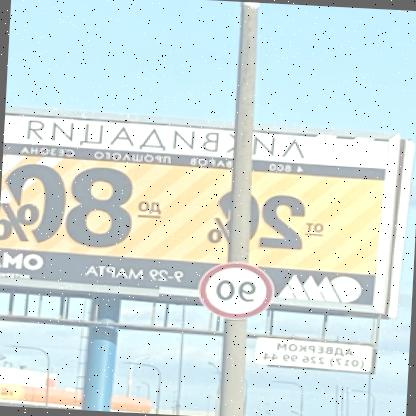speedlimit: (199, 259, 276, 319)
